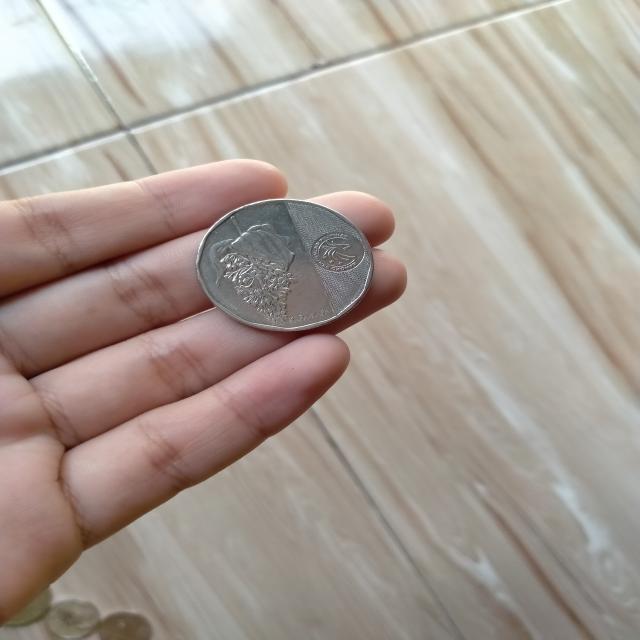10_New_Back: (208, 218, 310, 330)
